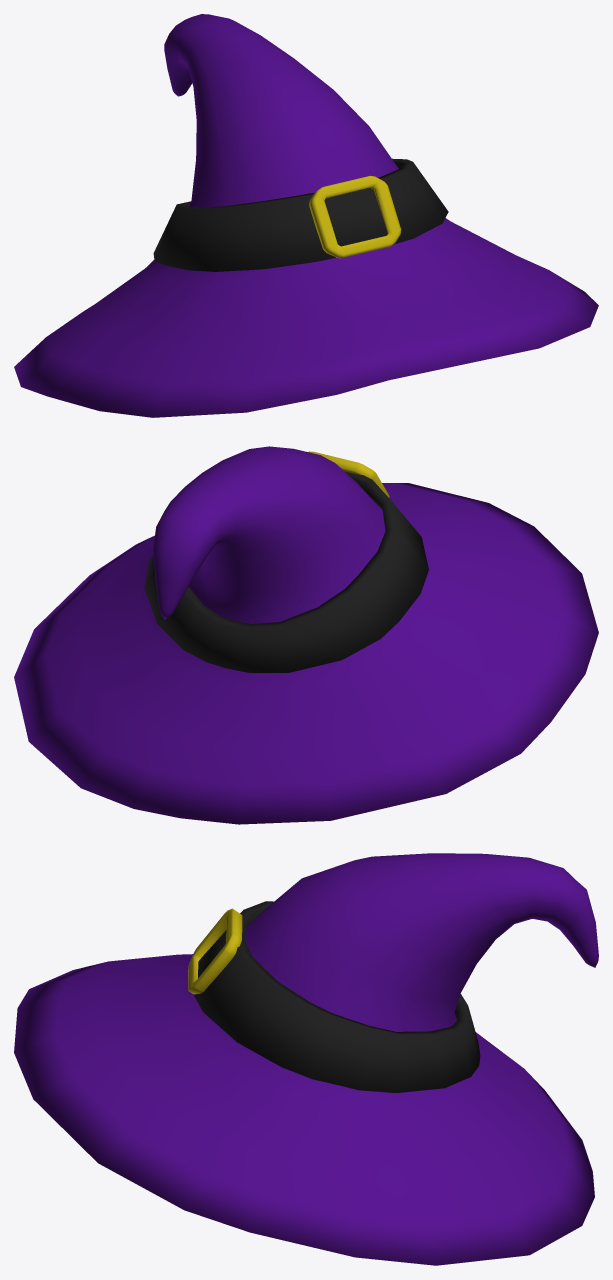
The picture shows the model from 3 angles, top to bottom: view 1: azimuth 30°, elevation 25°; view 2: azimuth 150°, elevation 25°; view 3: azimuth 270°, elevation 25°; orthographic projection. The views are drawn at different scales.
Parts seen in each view (by area): view 1: hatWitch; view 2: hatWitch; view 3: hatWitch.
Boxes of the visible parts, x1,y1,x2,y2 form: hatWitch: (14, 14, 598, 417); hatWitch: (14, 446, 598, 824); hatWitch: (14, 853, 598, 1265).
Size of the model in its own units: 0.7774 by 0.4434 by 0.7306.
Materials: 2 (2 with a texture image).
